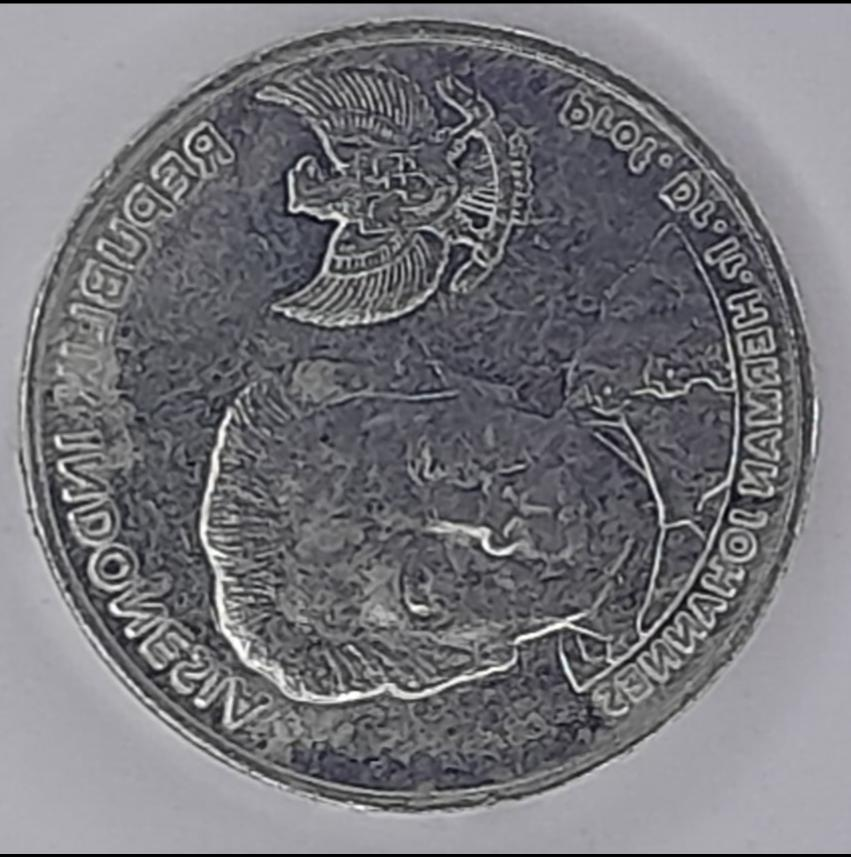coin_100_e2016: (12, 13, 824, 817)
